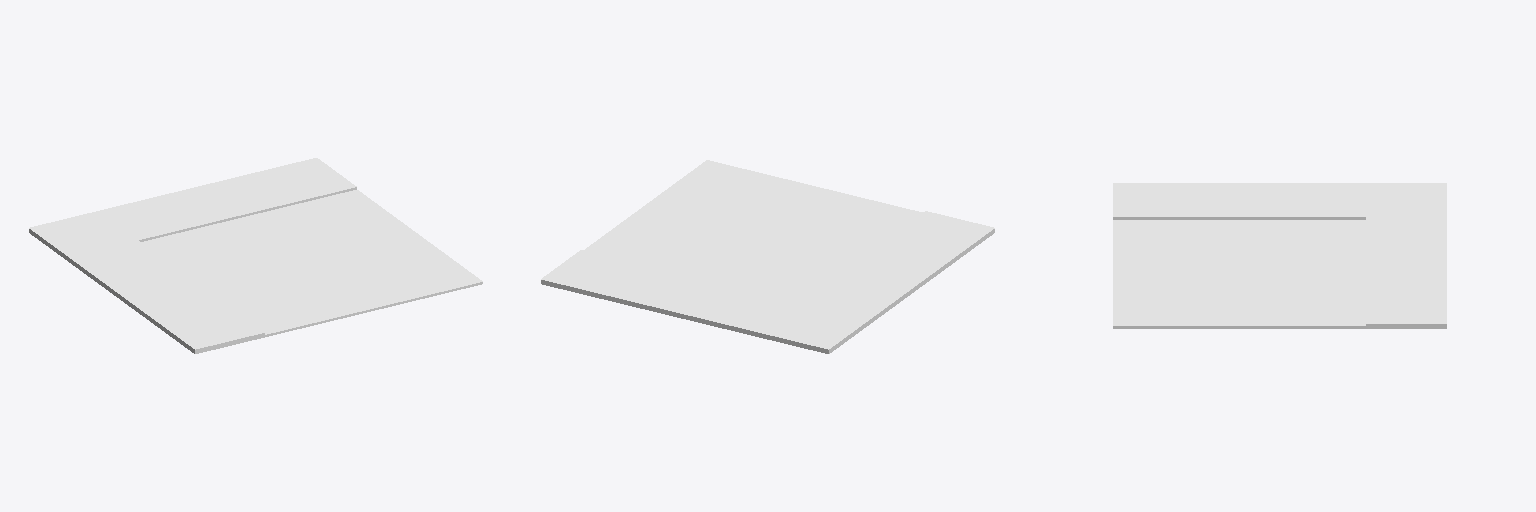
Rendered from GDS2_Floor3-0.obj.
The picture shows the model from 3 angles: view 1: azimuth 30°, elevation 25°; view 2: azimuth 150°, elevation 25°; view 3: azimuth 270°, elevation 25°; orthographic projection.
Visible parts, largest first — view 1: GDS2_Floor3-0; view 2: GDS2_Floor3-0; view 3: GDS2_Floor3-0.
Boxes of the visible parts, <box> form: GDS2_Floor3-0: <box>29,158,482,353</box>; GDS2_Floor3-0: <box>541,160,994,353</box>; GDS2_Floor3-0: <box>1113,183,1446,328</box>.
Bounding box in the file's own units: 12.8 × 0.2 × 12.8.